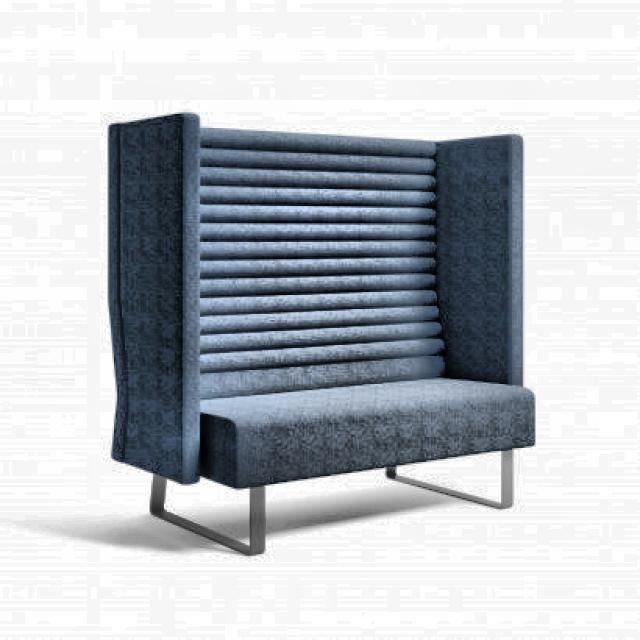sofa: (104, 109, 536, 556)
